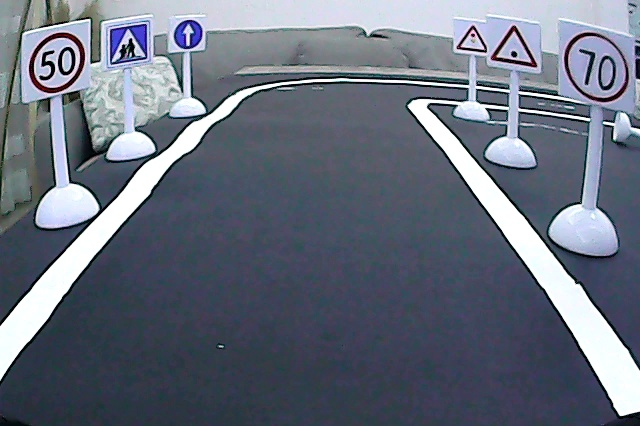green light: (487, 19, 540, 71)
red light: (454, 21, 487, 54)
school crossing: (104, 19, 151, 67)
speed limit 50: (25, 28, 88, 97)
speed limit 70: (562, 29, 632, 105)
